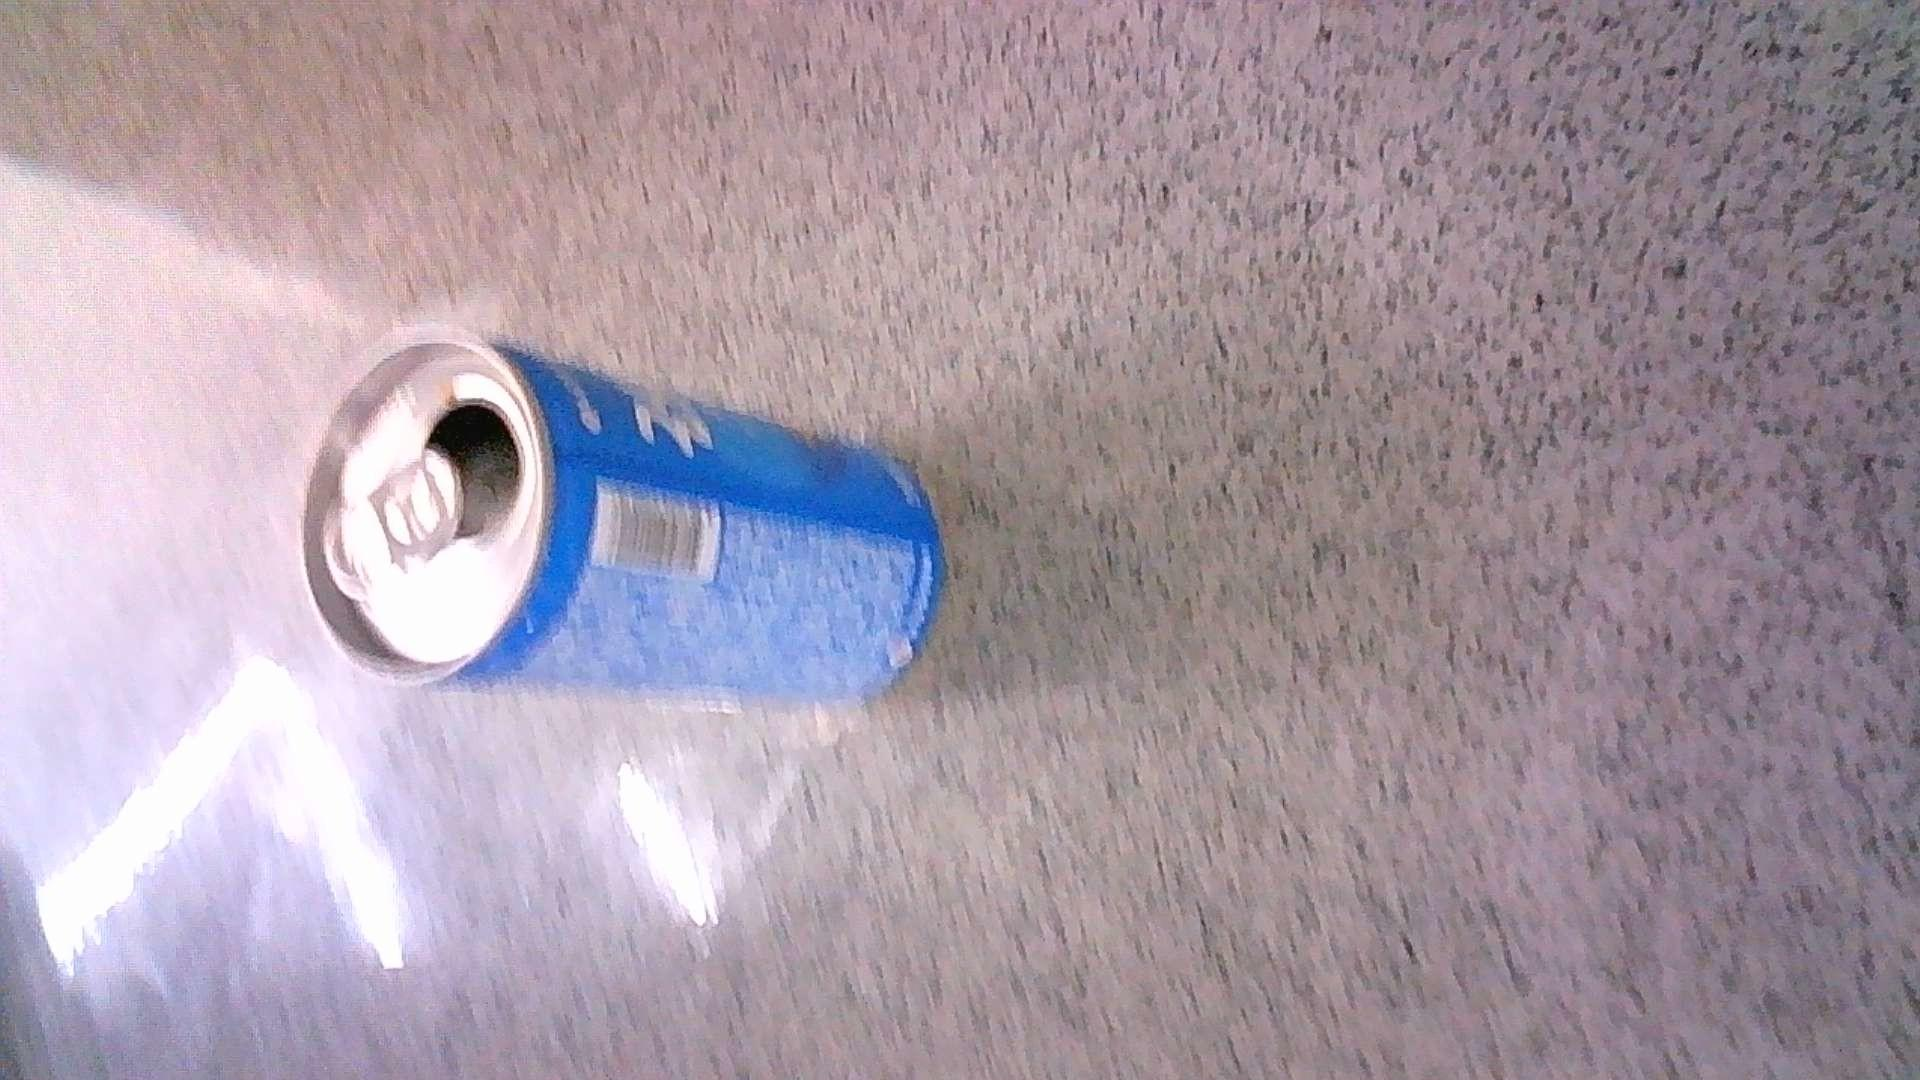letsbe: (297, 324, 945, 703)
